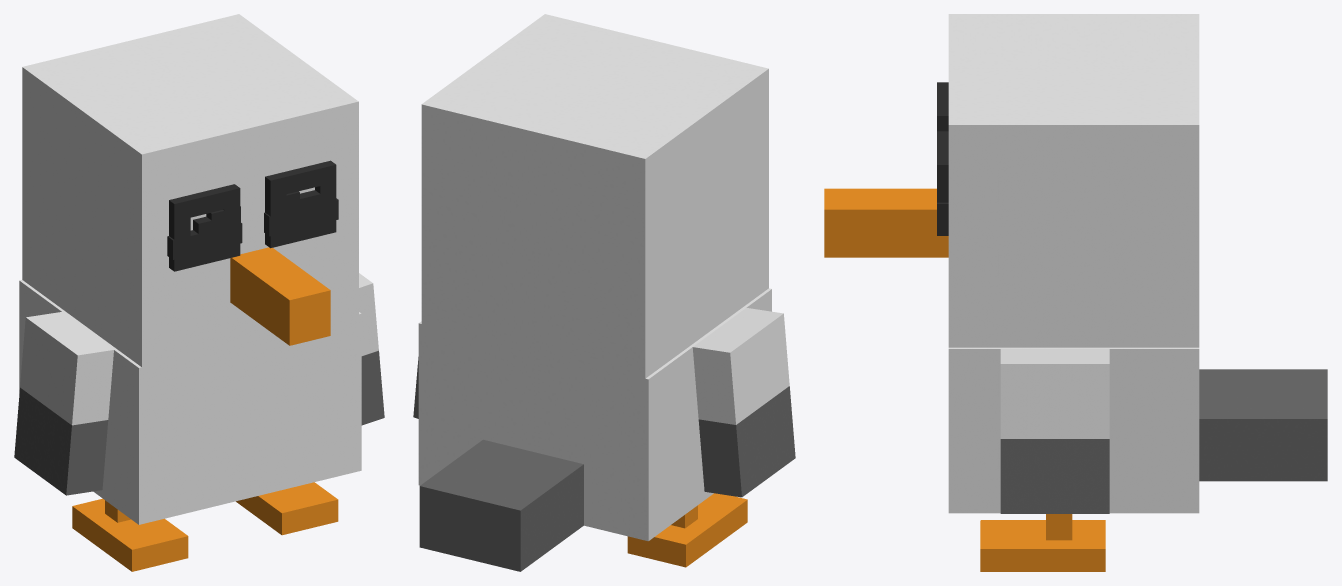
The picture shows the model from 3 angles, left to right: view 1: azimuth 30°, elevation 25°; view 2: azimuth 150°, elevation 25°; view 3: azimuth 270°, elevation 25°; orthographic projection. The views are drawn at different scales.
Visible parts, largest first — view 1: Ch_17_Head, Ch_17, Ch_17_Wing_L, Ch_17_Leg_L, Ch_17_Leg_R, Ch_17_Eye_03_R, Ch_17_Eye_03_L, Ch_17_Wing_R, Ch_17_Eye_02, Ch_17_Eye_01; view 2: Ch_17_Head, Ch_17, Ch_17_Wing_L, Ch_17_Leg_L; view 3: Ch_17_Head, Ch_17, Ch_17_Wing_R, Ch_17_Leg_R, Ch_17_Eye_03_R.
Part boxes in pixels (bbox=[...]): Ch_17_Head: bbox=[22, 14, 358, 367]; Ch_17: bbox=[19, 280, 361, 524]; Ch_17_Wing_L: bbox=[14, 312, 113, 495]; Ch_17_Leg_L: bbox=[72, 498, 188, 571]; Ch_17_Leg_R: bbox=[236, 482, 338, 535]; Ch_17_Eye_03_R: bbox=[265, 160, 336, 248]; Ch_17_Eye_03_L: bbox=[169, 184, 240, 271]; Ch_17_Wing_R: bbox=[359, 273, 384, 425]; Ch_17_Eye_02: bbox=[167, 198, 338, 259]; Ch_17_Eye_01: bbox=[206, 191, 299, 243]; Ch_17_Head: bbox=[421, 14, 768, 378]; Ch_17: bbox=[418, 288, 771, 571]; Ch_17_Wing_L: bbox=[692, 308, 795, 497]; Ch_17_Leg_L: bbox=[627, 493, 747, 567]; Ch_17_Head: bbox=[824, 14, 1199, 347]; Ch_17: bbox=[948, 347, 1327, 513]; Ch_17_Wing_R: bbox=[1000, 349, 1109, 513]; Ch_17_Leg_R: bbox=[980, 514, 1105, 571]; Ch_17_Eye_03_R: bbox=[937, 131, 948, 235].
Size of the model in its own units: 8.09 by 10.43 by 10.58.
